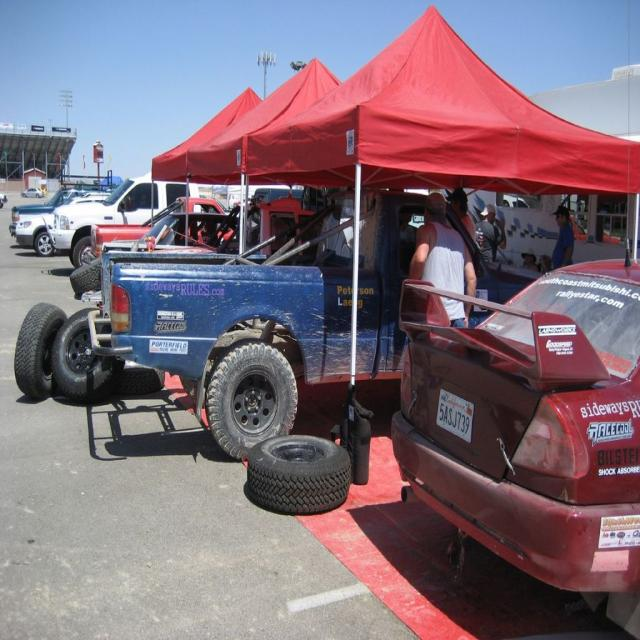car: (388, 0, 639, 636), (49, 176, 199, 269), (92, 189, 233, 251), (12, 184, 105, 262), (9, 179, 108, 236)
